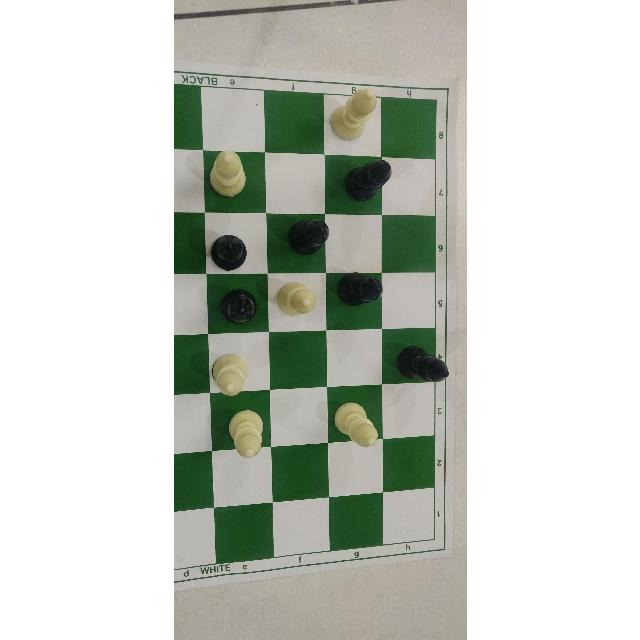black-bishop: (336, 266, 383, 315), (340, 157, 393, 198), (398, 342, 446, 387), (207, 230, 249, 274), (283, 215, 330, 254), (215, 288, 258, 328)
white-bishop: (327, 90, 380, 142), (332, 400, 380, 449), (268, 277, 320, 322), (210, 354, 256, 400), (225, 410, 267, 460), (205, 154, 247, 199)
